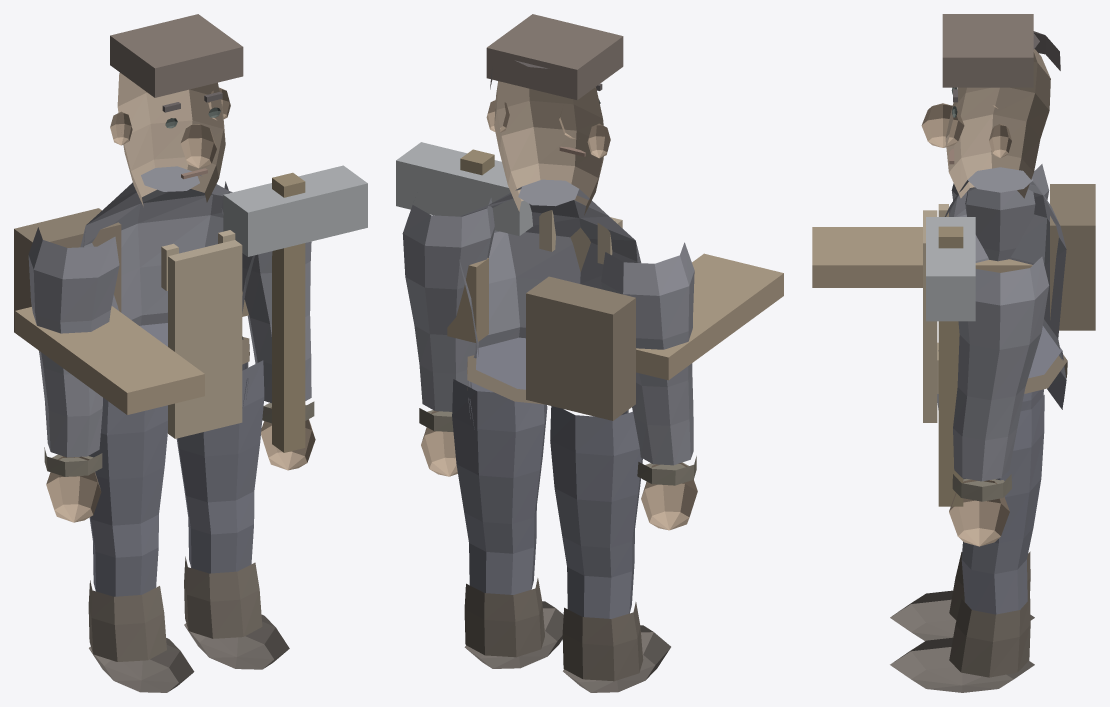
The model's file is renaissance_builder_1000_2.glb.
3 views of the same model, side by side, from view 1: azimuth 30°, elevation 25°; view 2: azimuth 150°, elevation 25°; view 3: azimuth 270°, elevation 25° (orthographic). The views are drawn at different scales.
Parts seen in each view (by area): view 1: body_7, leftLeg_0, leftArm_0, rightLeg_0, body_0, leftArm_3, rightArm_4, head_10, rightArm_3, head_0, rightLeg_1, leftLeg_1 (+9 smaller); view 2: leftLeg_0, rightLeg_0, body_8, body_0, rightArm_0, leftArm_0, head_0, head_10, leftArm_3, rightArm_4, leftLeg_1, rightLeg_1 (+12 smaller); view 3: rightArm_0, rightLeg_0, head_0, leftArm_3, head_10, body_8, body_0, rightLeg_1, rightArm_4, rightArm_3, leftArm_0, rightLeg_2 (+10 smaller).
Part boxes in pixels (left/top/right/bottom): body_7: left=168, top=240, right=242, bottom=438; leftLeg_0: left=88, top=397, right=167, bottom=596; leftArm_0: left=28, top=227, right=119, bottom=457; rightLeg_0: left=176, top=360, right=264, bottom=573; body_0: left=80, top=166, right=254, bottom=399; leftArm_3: left=15, top=306, right=204, bottom=414; rightArm_4: left=223, top=165, right=367, bottom=256; head_10: left=110, top=14, right=243, bottom=97; rightArm_3: left=272, top=172, right=305, bottom=452; head_0: left=117, top=72, right=225, bottom=206; rightLeg_1: left=184, top=556, right=262, bottom=638; leftLeg_1: left=88, top=580, right=166, bottom=661; leftLeg_0: left=550, top=406, right=642, bottom=618; rightLeg_0: left=452, top=379, right=547, bottom=594; body_8: left=526, top=276, right=635, bottom=420; body_0: left=459, top=179, right=641, bottom=418; rightArm_0: left=402, top=198, right=494, bottom=411; leftArm_0: left=601, top=242, right=694, bottom=465; head_0: left=494, top=81, right=603, bottom=215; head_10: left=486, top=14, right=623, bottom=100; leftArm_3: left=636, top=253, right=783, bottom=380; rightArm_4: left=396, top=142, right=532, bottom=235; leftLeg_1: left=562, top=602, right=643, bottom=681; rightLeg_1: left=464, top=578, right=544, bottom=657; rightArm_0: left=953, top=256, right=1049, bottom=481; rightLeg_0: left=961, top=395, right=1044, bottom=614; head_0: left=945, top=49, right=1050, bottom=198; leftArm_3: left=812, top=227, right=1032, bottom=287; head_10: left=942, top=14, right=1033, bottom=87; body_8: left=1050, top=184, right=1095, bottom=330; body_0: left=945, top=167, right=1066, bottom=401; rightLeg_1: left=949, top=599, right=1030, bottom=677; rightArm_4: left=926, top=217, right=975, bottom=321; rightArm_3: left=938, top=226, right=963, bottom=506; leftArm_0: left=951, top=164, right=1049, bottom=261; rightLeg_2: left=890, top=637, right=1034, bottom=692.
Size of the model in its own units: 0.842 by 1.67 by 0.685.
